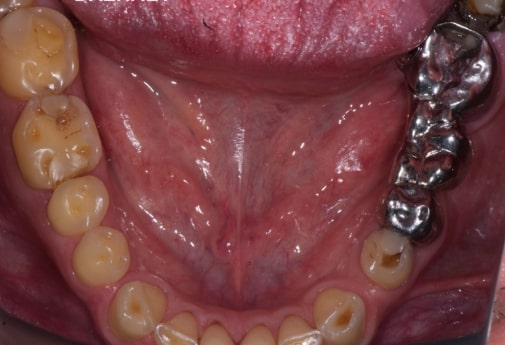LL1BC_decay: (361, 229, 414, 290)
LL1M_decay: (393, 111, 469, 193)
LL2BC_decay: (383, 185, 443, 244)
LL2M_decay: (407, 22, 498, 120)
LLCI_healthy: (239, 322, 277, 345)
LLC_decay: (315, 287, 367, 342)
LLLI_decay: (277, 316, 321, 345)
LR1BC_healthy: (71, 227, 130, 288)
LR1M_decay: (9, 98, 103, 191)
LR2BC_decay: (48, 175, 109, 234)
LR2M_decay: (1, 5, 84, 94)
LRCI_healthy: (200, 321, 235, 345)
LRC_decay: (109, 282, 168, 340)
LRLI_decay: (155, 312, 199, 344)
